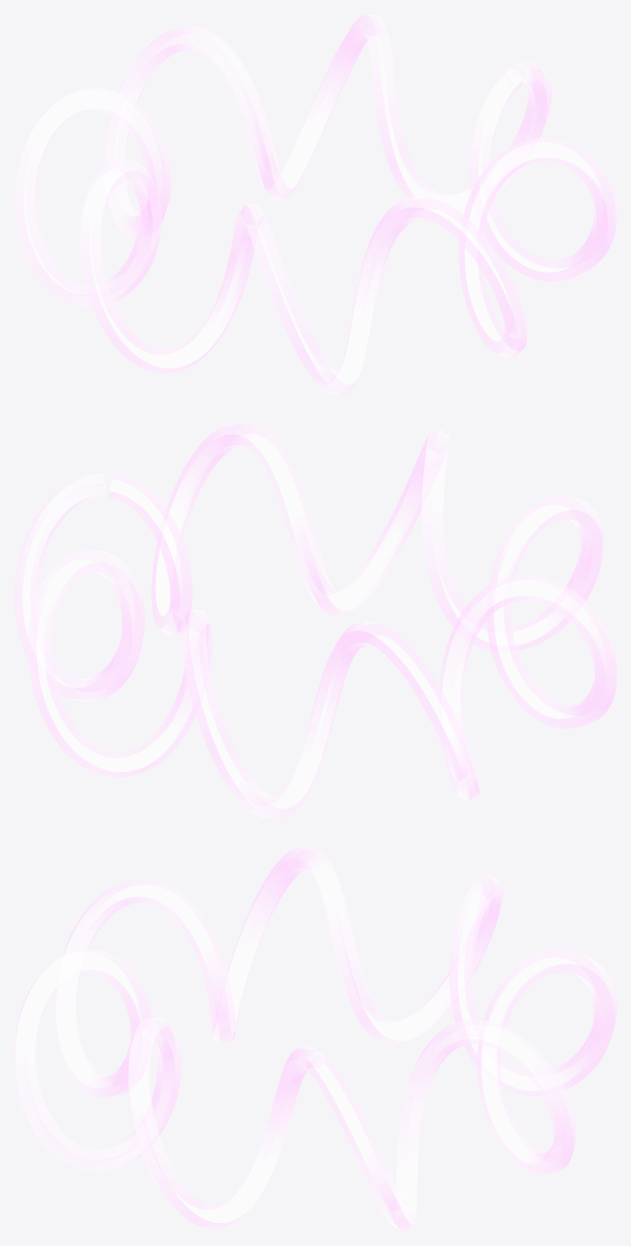
File: gen1429-protean-elite.glb
3 views of the same model, one above another, from view 1: azimuth 30°, elevation 25°; view 2: azimuth 150°, elevation 25°; view 3: azimuth 270°, elevation 25° (orthographic). The views are drawn at different scales.
Visible parts, largest first — view 1: protean_path; view 2: protean_path; view 3: protean_path.
Boxes of the visible parts, x1,y1,x2,y2 form: protean_path: [14, 14, 616, 394]; protean_path: [14, 423, 616, 818]; protean_path: [14, 847, 616, 1231].
Bounding box in the file's own units: 0.2855 × 0.0953 × 0.285.
